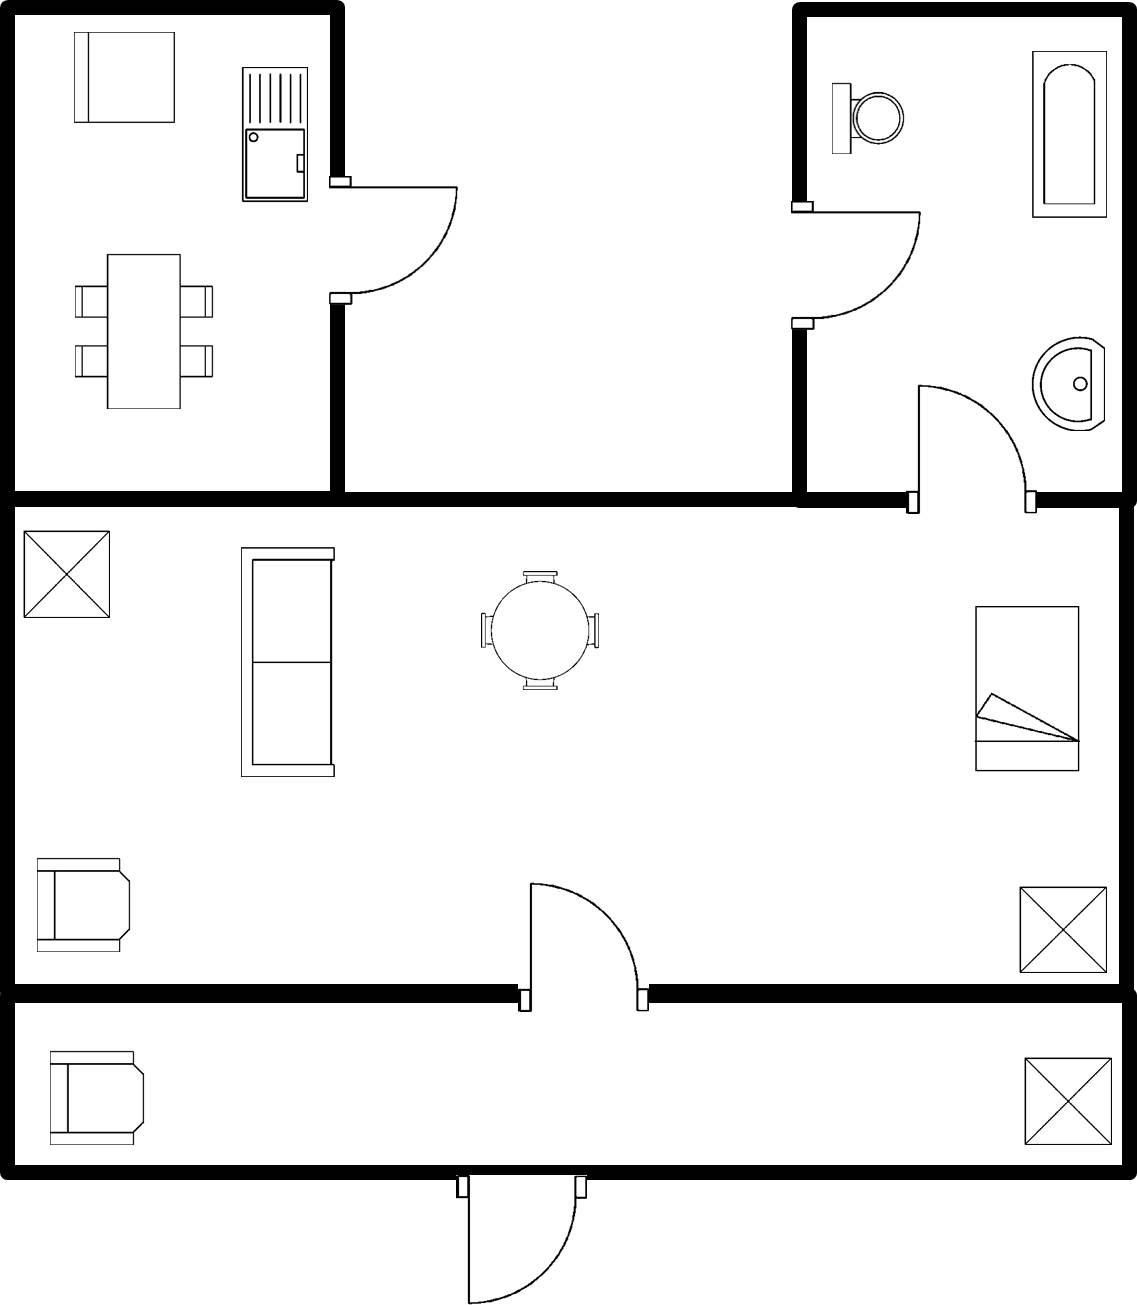bed: (964, 595, 1088, 779)
dining_table: (64, 245, 214, 419)
round_table: (470, 562, 608, 699)
sink: (230, 59, 316, 212)
sofa: (229, 539, 344, 783)
toilet: (819, 74, 910, 161)
tub: (1025, 41, 1111, 227)
